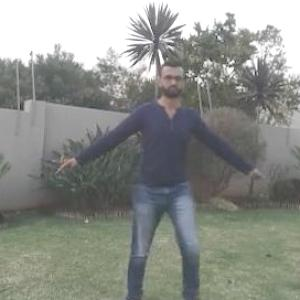land: (85, 79, 228, 256)
